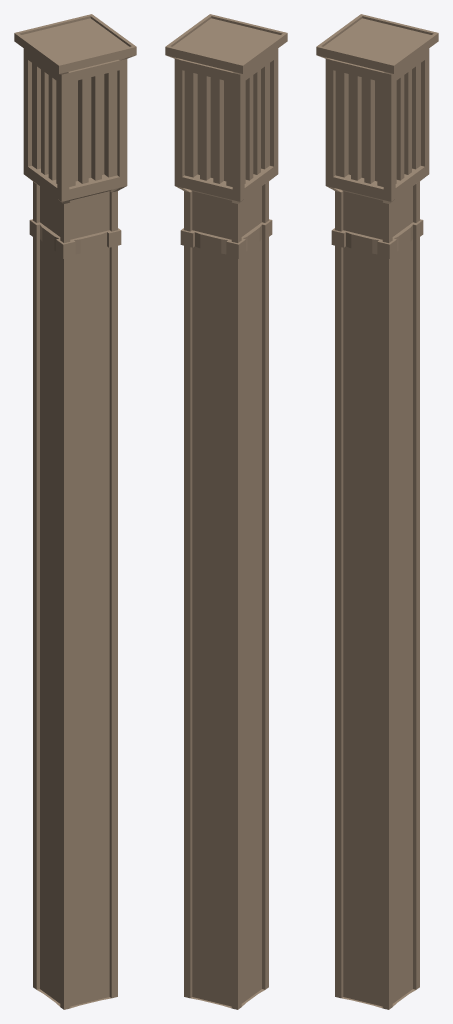
Rendered from M_WindTower.fbx.
The picture shows the model from 3 angles, left to right: view 1: azimuth 30°, elevation 25°; view 2: azimuth 150°, elevation 25°; view 3: azimuth 330°, elevation 25°; orthographic projection.
Visible parts, largest first — view 1: Cube; view 2: Cube; view 3: Cube.
Part boxes in pixels (x1,y1,x2,y2): Cube: [14, 14, 136, 1009]; Cube: [165, 14, 287, 1009]; Cube: [316, 14, 438, 1009].
Size of the model in its own units: 100 by 1170 by 100.
